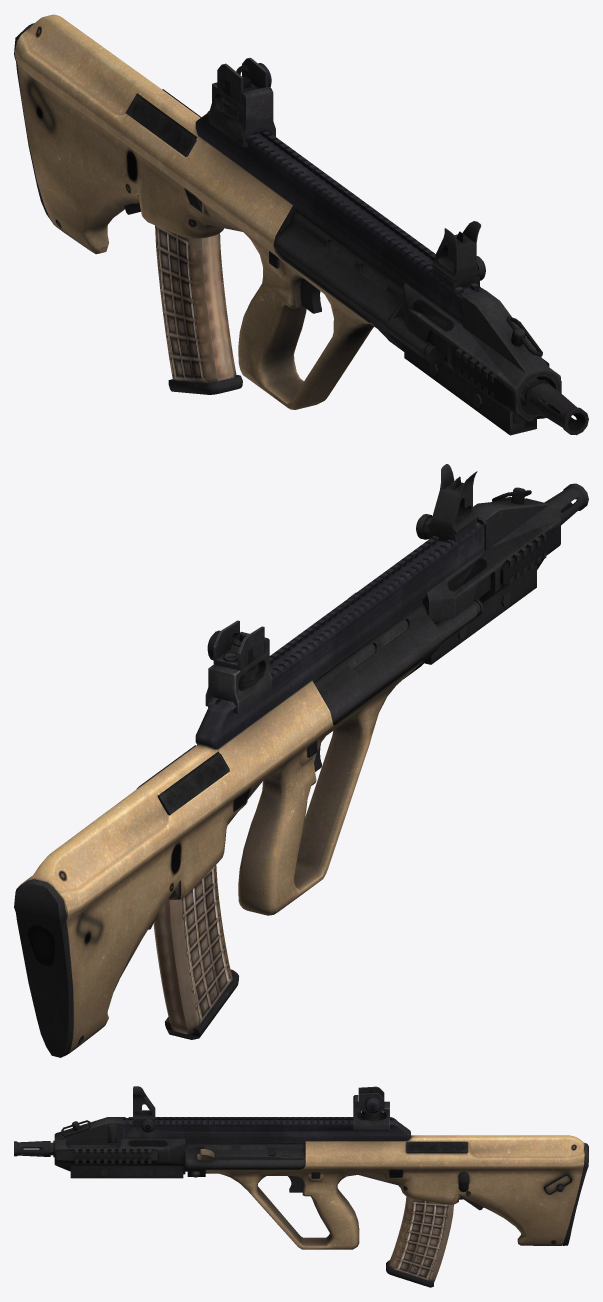
Rendered from Aug.fbx.
The picture shows the model from 3 angles, top to bottom: view 1: azimuth 30°, elevation 25°; view 2: azimuth 150°, elevation 25°; view 3: azimuth 270°, elevation 25°; orthographic projection. The views are drawn at different scales.
Visible parts, largest first — view 1: Mesh_0010, mag, Mesh_0012, something_dustcover_maybe, trigger; view 2: Mesh_0010, mag, Mesh_0012, something_dustcover_maybe; view 3: Mesh_0010, mag, Mesh_0012.
Part boxes in pixels (left/top/right/bottom): Mesh_0010: left=14, top=14, right=588, bottom=435; mag: left=155, top=225, right=242, bottom=394; Mesh_0012: left=209, top=57, right=485, bottom=289; something_dustcover_maybe: left=125, top=93, right=197, bottom=156; trigger: left=300, top=278, right=321, bottom=313; Mesh_0010: left=14, top=483, right=588, bottom=1057; mag: left=153, top=865, right=238, bottom=1039; Mesh_0012: left=205, top=464, right=477, bottom=713; something_dustcover_maybe: left=157, top=751, right=229, bottom=815; Mesh_0010: left=14, top=1117, right=588, bottom=1249; mag: left=386, top=1196, right=453, bottom=1287; Mesh_0012: left=133, top=1086, right=389, bottom=1132.
Size of the model in its own units: 5.95 by 25.63 by 68.97.
2 materials, 2 textured.
